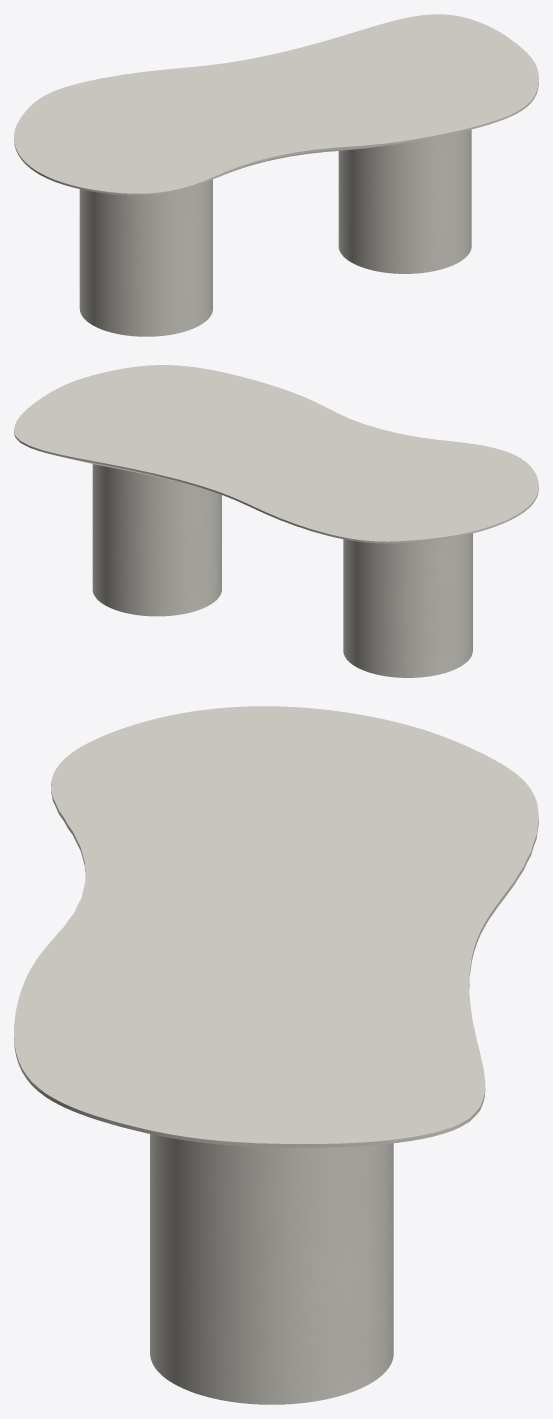
File: pale_wave_facet_stream.glb
The picture shows the model from 3 angles, top to bottom: view 1: azimuth 30°, elevation 25°; view 2: azimuth 150°, elevation 25°; view 3: azimuth 270°, elevation 25°; orthographic projection. The views are drawn at different scales.
Parts seen in each view (by area): view 1: facet_wave, stream; view 2: facet_wave, stream; view 3: facet_wave, stream.
Boxes of the visible parts, x1=… form: facet_wave: x1=14, y1=14, x2=538, y2=195; stream: x1=79, y1=129, x2=471, y2=336; facet_wave: x1=14, y1=365, x2=538, y2=543; stream: x1=92, y1=464, x2=472, y2=677; facet_wave: x1=14, y1=706, x2=538, y2=1147; stream: x1=150, y1=1134, x2=393, y2=1404.
Size of the model in its own units: 7.5 by 2.5 by 3.8.
Materials: 1 (1 with a texture image).
